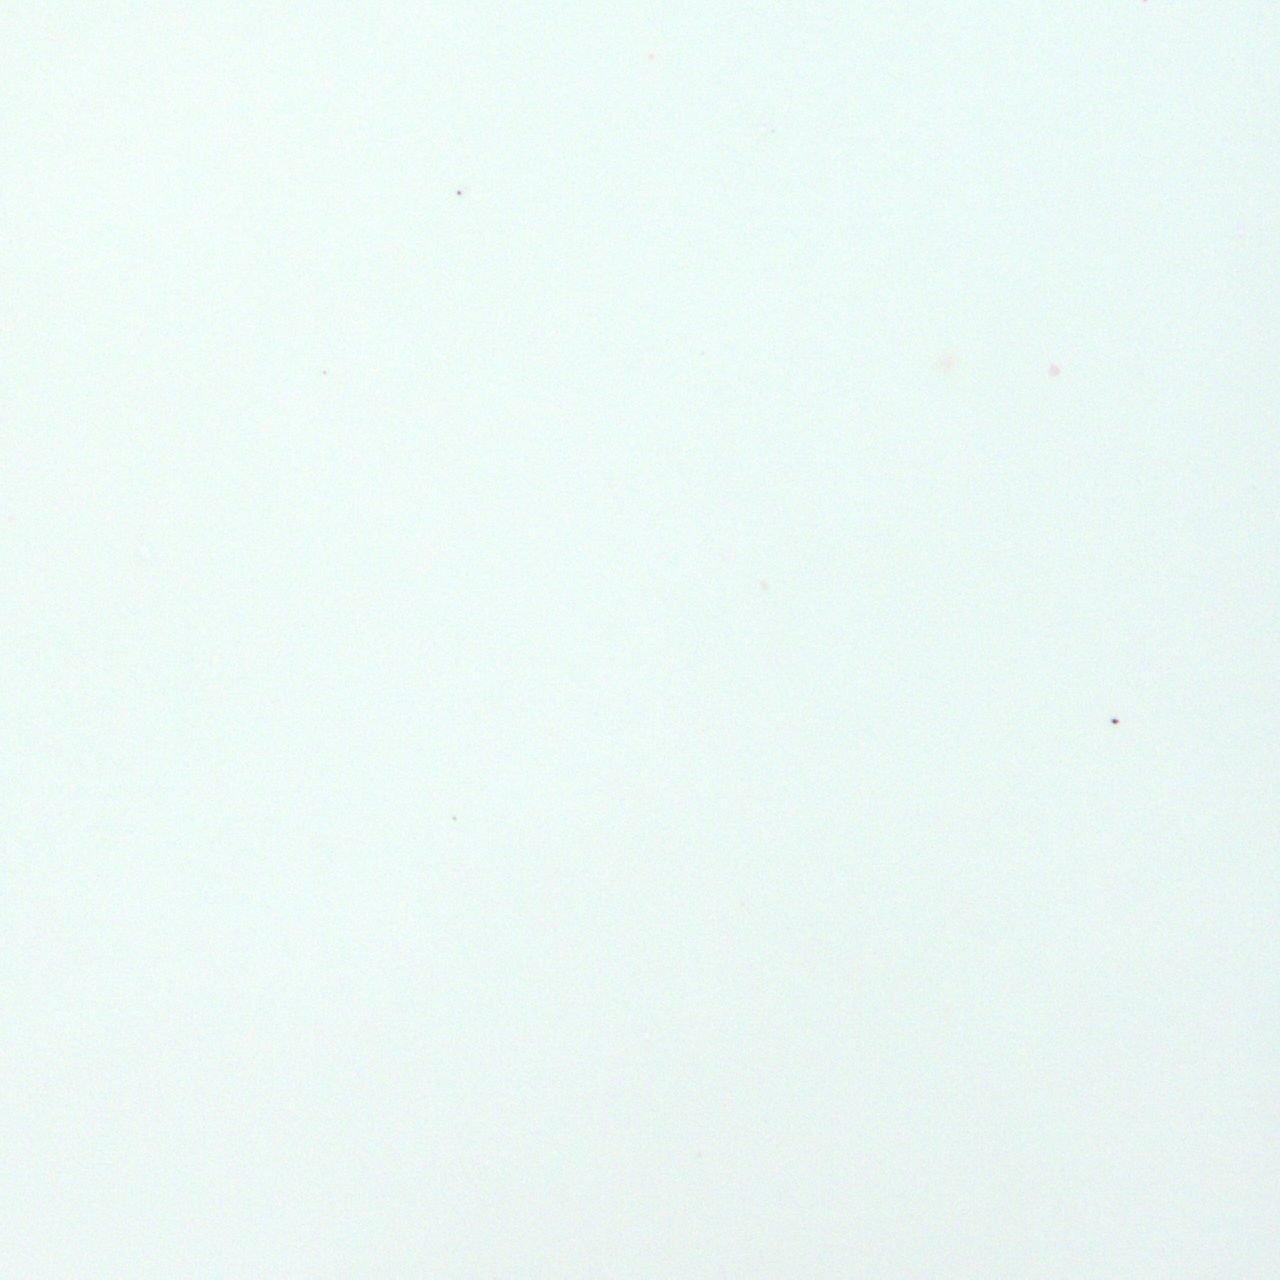dust: (1110, 717, 1121, 728), (455, 188, 462, 198)
